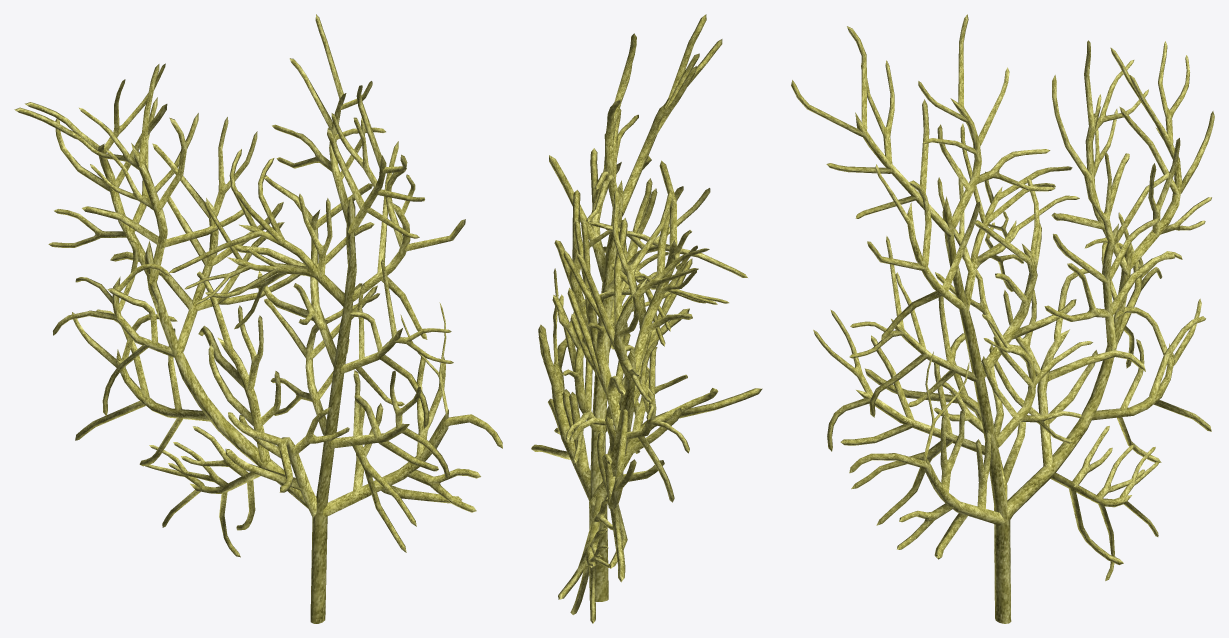
The model's file is FanCoralCluster.003_FBX_still.fbx.
3 renders of one model, left to right at view 1: azimuth 30°, elevation 25°; view 2: azimuth 150°, elevation 25°; view 3: azimuth 270°, elevation 25°, orthographic. The views are drawn at different scales.
Parts seen in each view (by area): view 1: FanCoralCluster.003_gameasset; view 2: FanCoralCluster.003_gameasset; view 3: FanCoralCluster.003_gameasset.
Part boxes in pixels (<box>): FanCoralCluster.003_gameasset: <box>14,14,502,623</box>; FanCoralCluster.003_gameasset: <box>531,14,762,623</box>; FanCoralCluster.003_gameasset: <box>791,14,1214,623</box>.
Size of the model in its own units: 2.41 by 4.52 by 2.91.
1 material, 1 textured.
